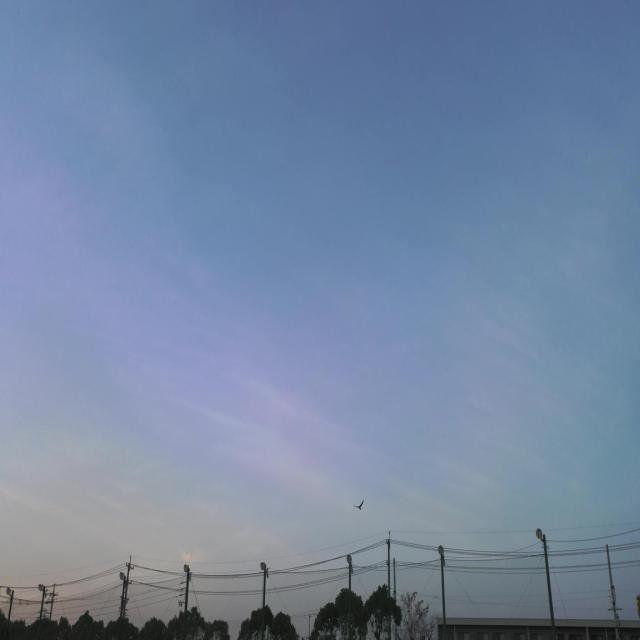Birds: (354, 498, 366, 514)
